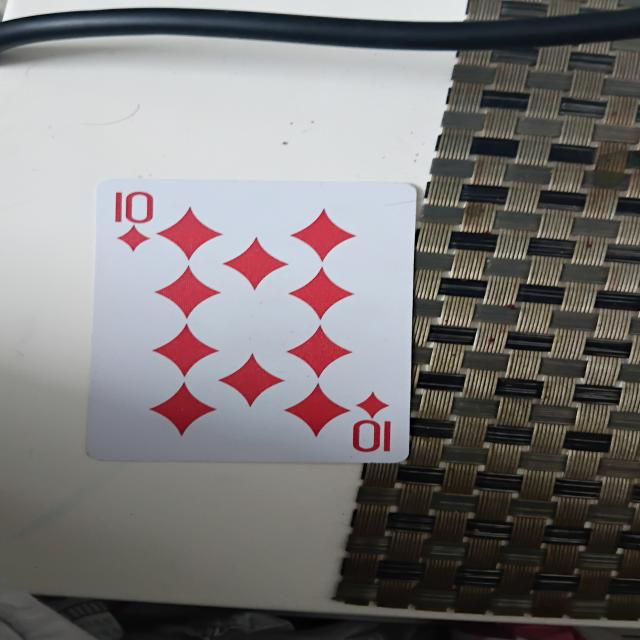10D: (89, 179, 407, 464)
